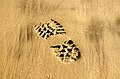human_foot_print: (33, 20, 83, 62)
